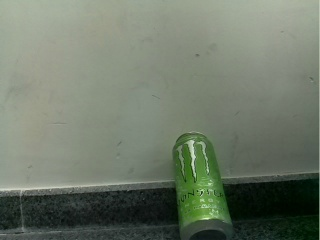botella plastico: (172, 132, 232, 240)
